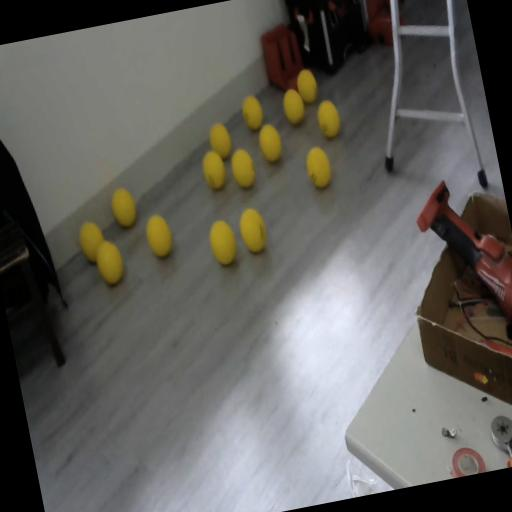FUEL: (205, 216, 241, 268), (142, 210, 178, 262), (92, 236, 127, 288), (235, 204, 270, 256), (302, 144, 335, 192), (198, 146, 230, 192), (228, 146, 258, 190), (109, 186, 139, 230), (313, 96, 343, 140), (256, 122, 285, 164), (207, 121, 235, 161), (280, 87, 308, 127), (294, 66, 320, 106), (240, 93, 266, 131)
